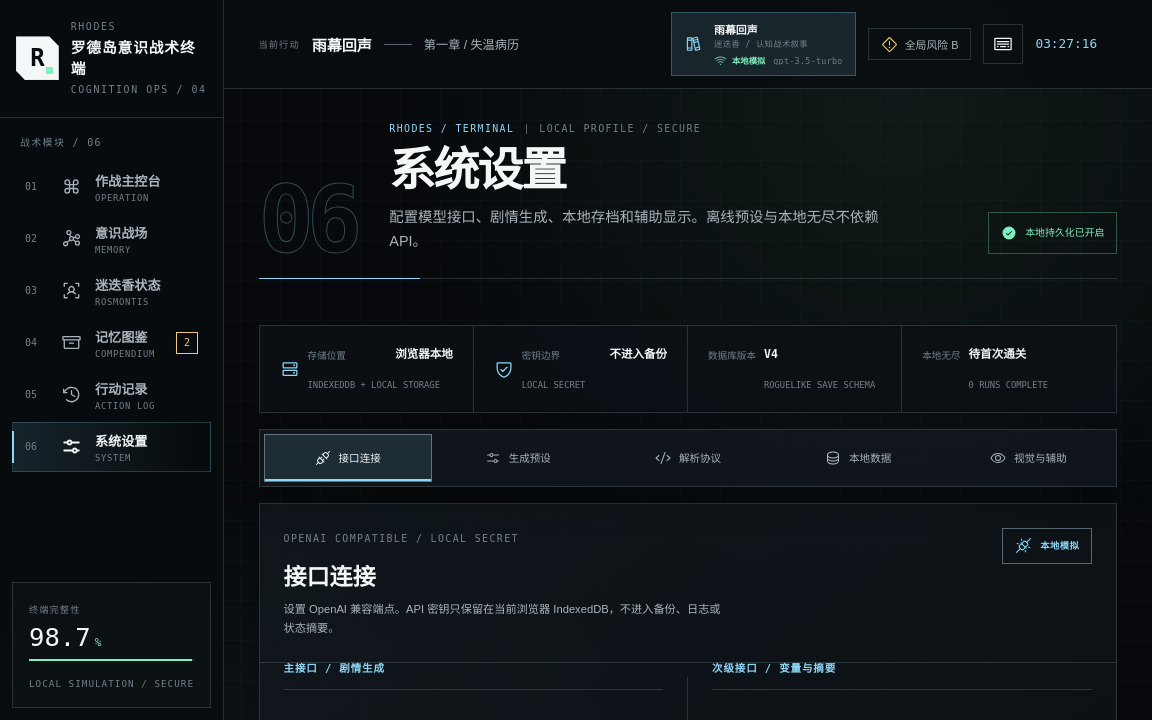
Test: changes reduced motion preference and resets the demo after confirmation
Click the tab "视觉与辅助". click: (1028, 458)
box: [944, 434, 1112, 482]
(page scrolled)
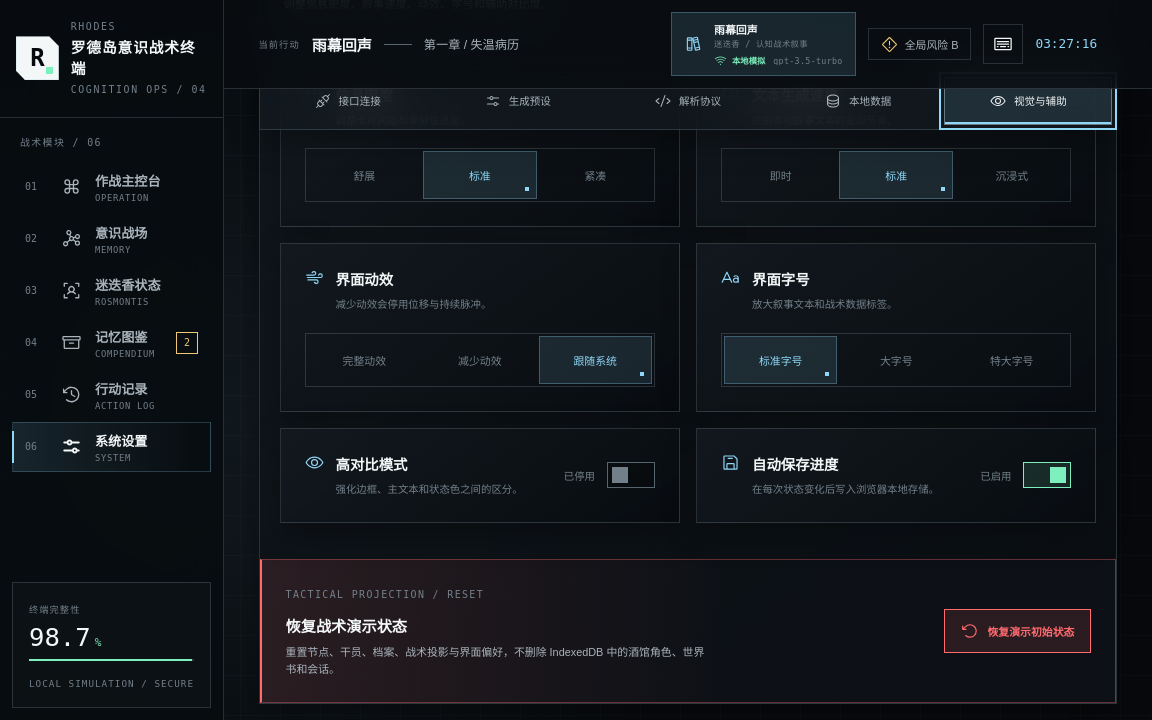
Click the radio button labelled "减少动效". click: (480, 361)
box: [458, 355, 502, 367]
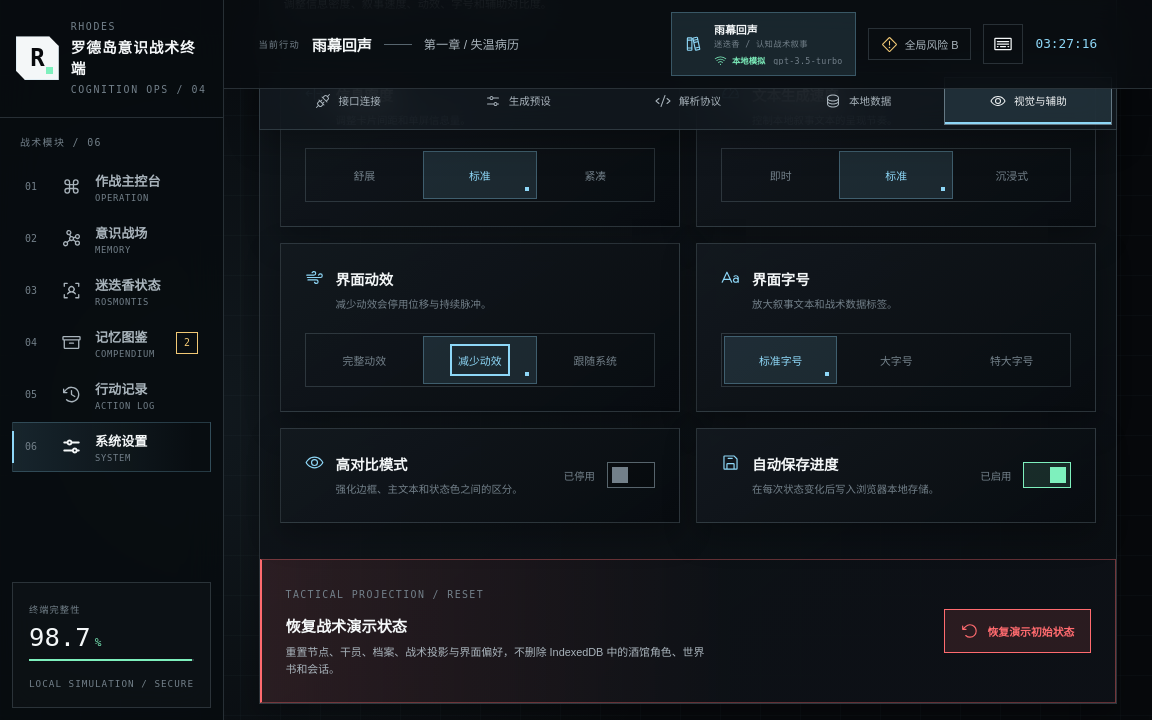
Click the button "恢复演示初始状态". click: (1018, 631)
box: [944, 609, 1092, 653]
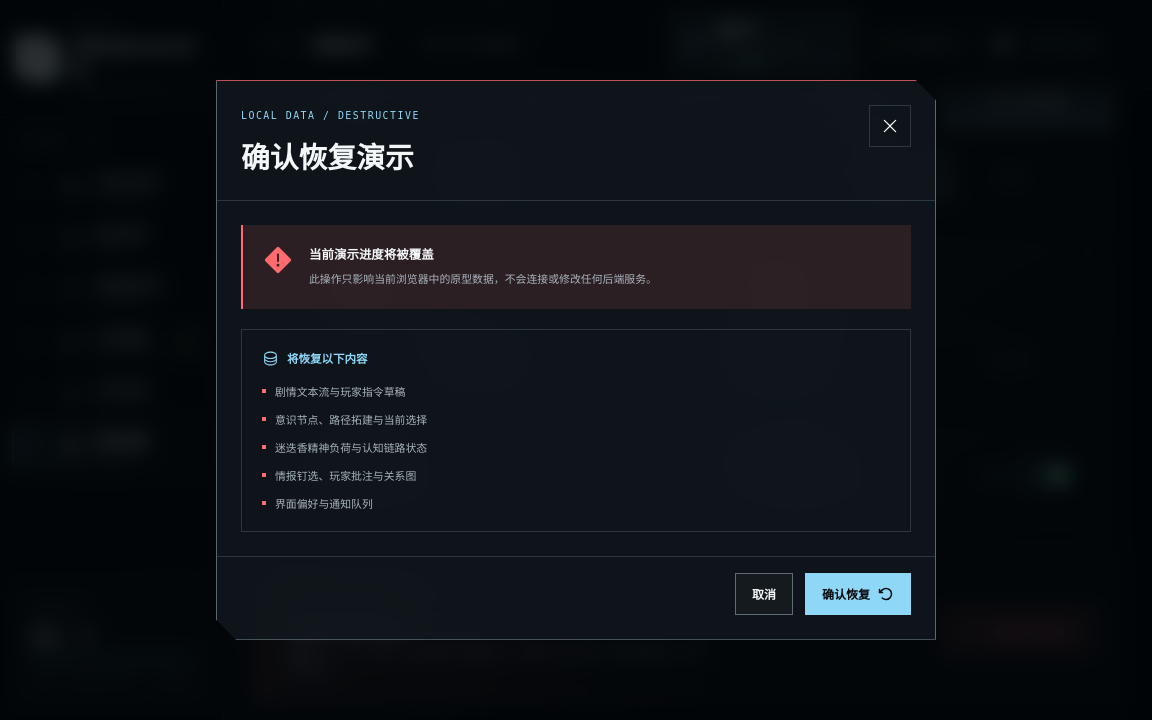
Expected: the dialog "确认恢复演示" is shown, [216, 80, 936, 640]
